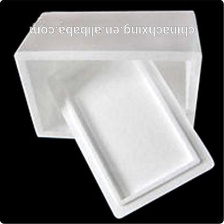foam_box: (11, 6, 217, 221)
